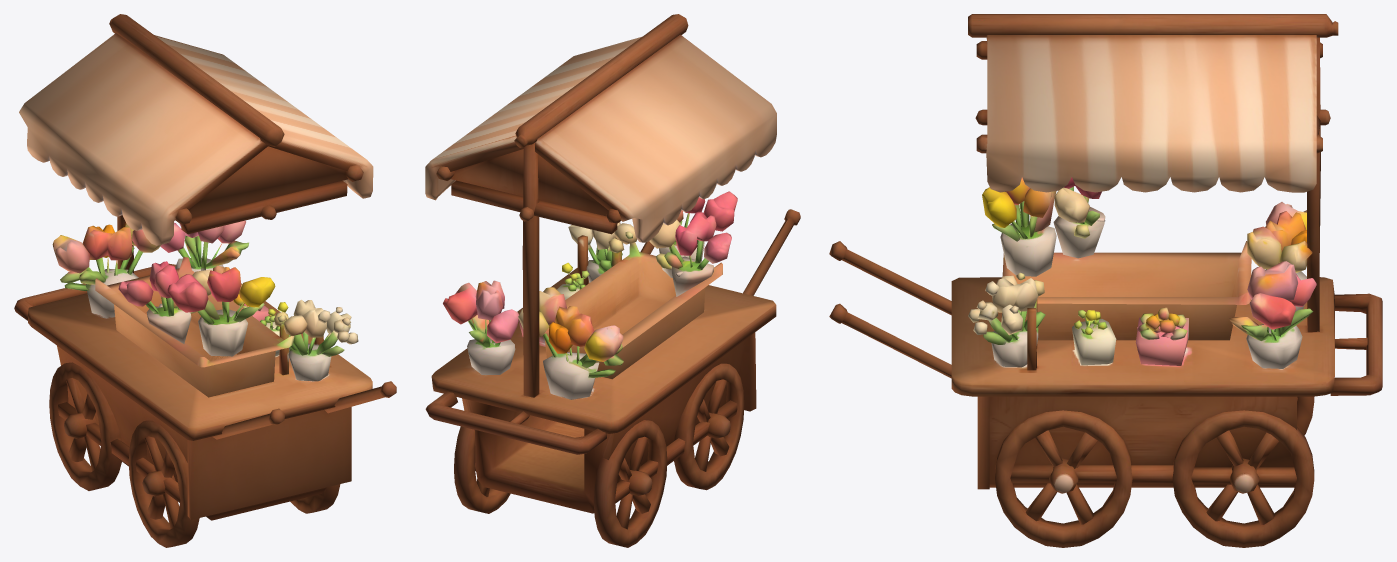
The model's file is flower_cart.glb.
3 views of the same model, side by side, from view 1: azimuth 30°, elevation 25°; view 2: azimuth 150°, elevation 25°; view 3: azimuth 270°, elevation 25° (orthographic). The views are drawn at different scales.
Parts seen in each view (by area): view 1: tripo_node_c5d9d380-fb4d-488b-bb71-44d5c9702ecd; view 2: tripo_node_c5d9d380-fb4d-488b-bb71-44d5c9702ecd; view 3: tripo_node_c5d9d380-fb4d-488b-bb71-44d5c9702ecd.
Boxes of the visible parts, x1,y1,x2,y2 form: tripo_node_c5d9d380-fb4d-488b-bb71-44d5c9702ecd: (14,14,396,547); tripo_node_c5d9d380-fb4d-488b-bb71-44d5c9702ecd: (425,14,800,547); tripo_node_c5d9d380-fb4d-488b-bb71-44d5c9702ecd: (829,14,1382,547).
Size of the model in its own units: 0.502 by 0.9746 by 0.998.
Materials: 1 (1 with a texture image).
